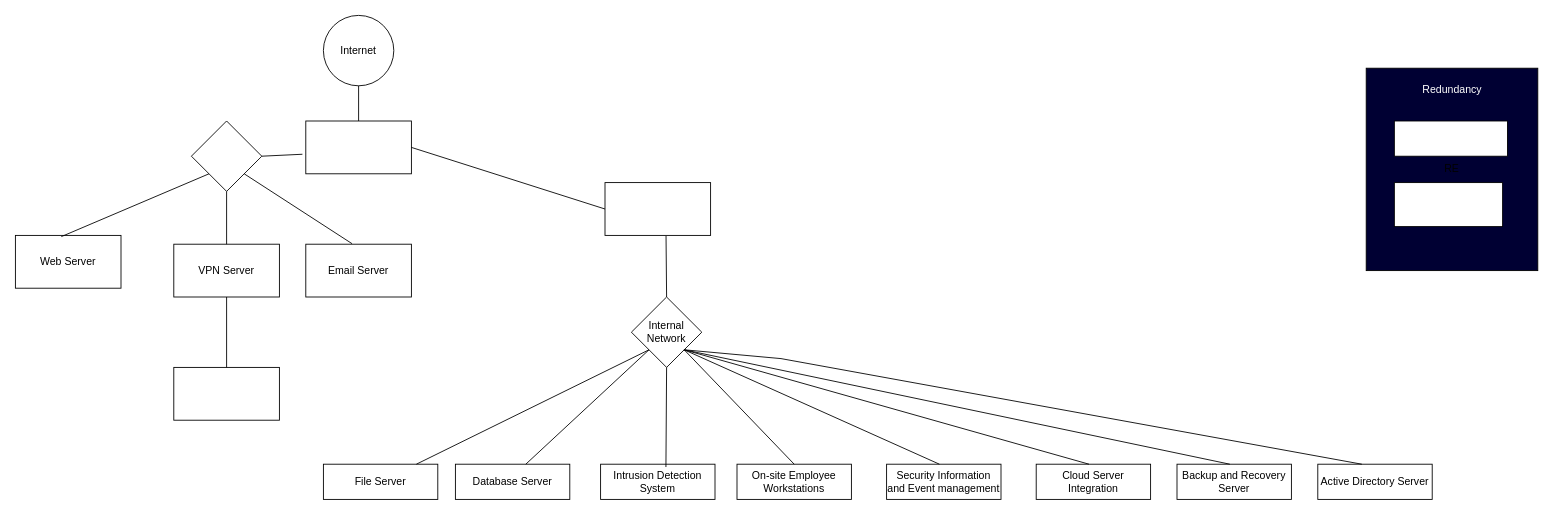
This 1553x515 diagram has some shape labels left out. The shapes that lost their labels are listed below. From the top down, each one's centre as x and y in pixels, then its label:
At (226,155): "DMZ".
At (358,147): "External Firewall".
At (1450,138): "Load Balancer".
At (657,208): "Internal Firewall".
At (1448,204): "Redundancy Server".
At (226,393): "Remote Employees".
